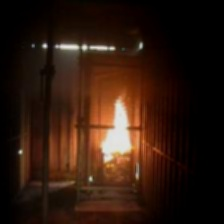fire: (100, 95, 139, 156)
